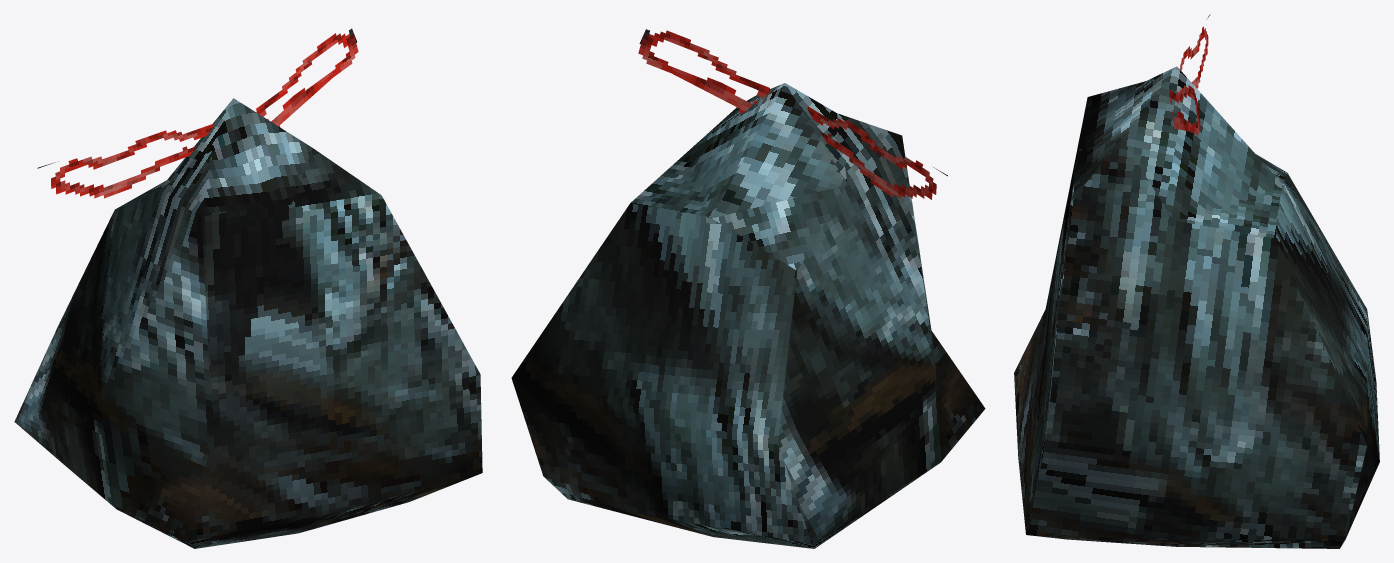
The model's file is Garbage Bag.glb.
3 renders of one model, left to right at view 1: azimuth 30°, elevation 25°; view 2: azimuth 150°, elevation 25°; view 3: azimuth 270°, elevation 25°, orthographic. The views are drawn at different scales.
Visible parts, largest first — view 1: garbage_bag_1; view 2: garbage_bag_1; view 3: garbage_bag_1.
Part boxes in pixels (<box>): garbage_bag_1: <box>14,28,482,548</box>; garbage_bag_1: <box>511,29,985,548</box>; garbage_bag_1: <box>1014,14,1379,548</box>.
Size of the model in its own units: 2.83 by 3.27 by 2.31.
1 material, 1 textured.
